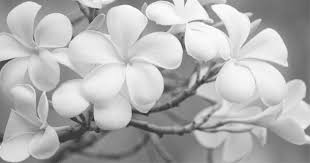frangipani: (69, 7, 183, 112), (186, 4, 287, 106)
